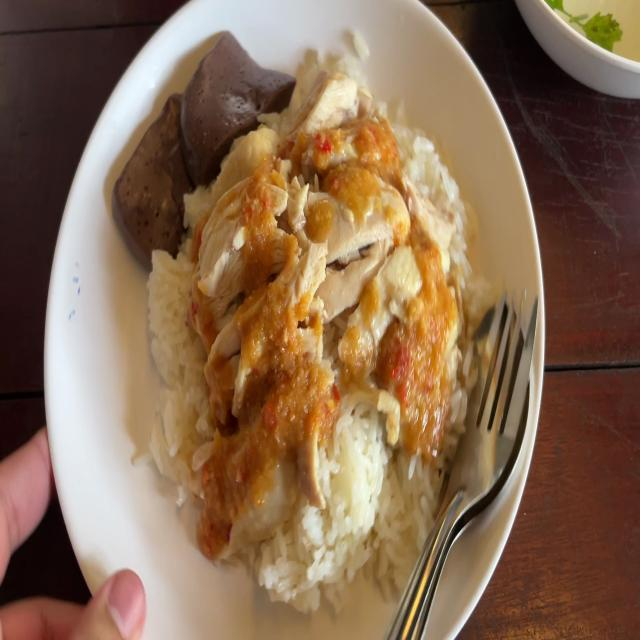chicken_rice: (186, 142, 440, 514)
noodle: (112, 83, 194, 257), (176, 21, 276, 160)
